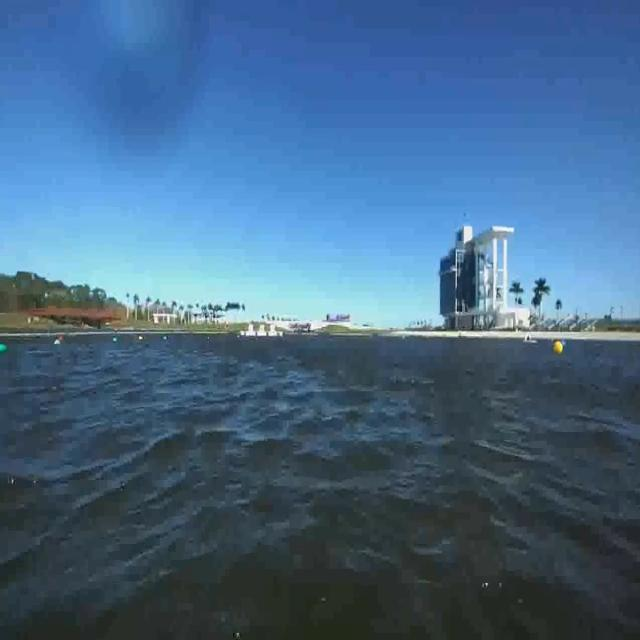yellow-buoy: (552, 339, 565, 356)
